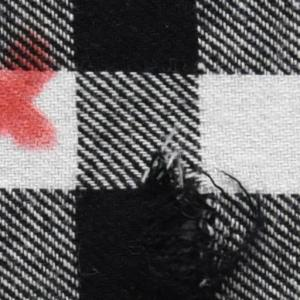Damage: (112, 137, 273, 300)
Stain: (1, 30, 70, 154)
